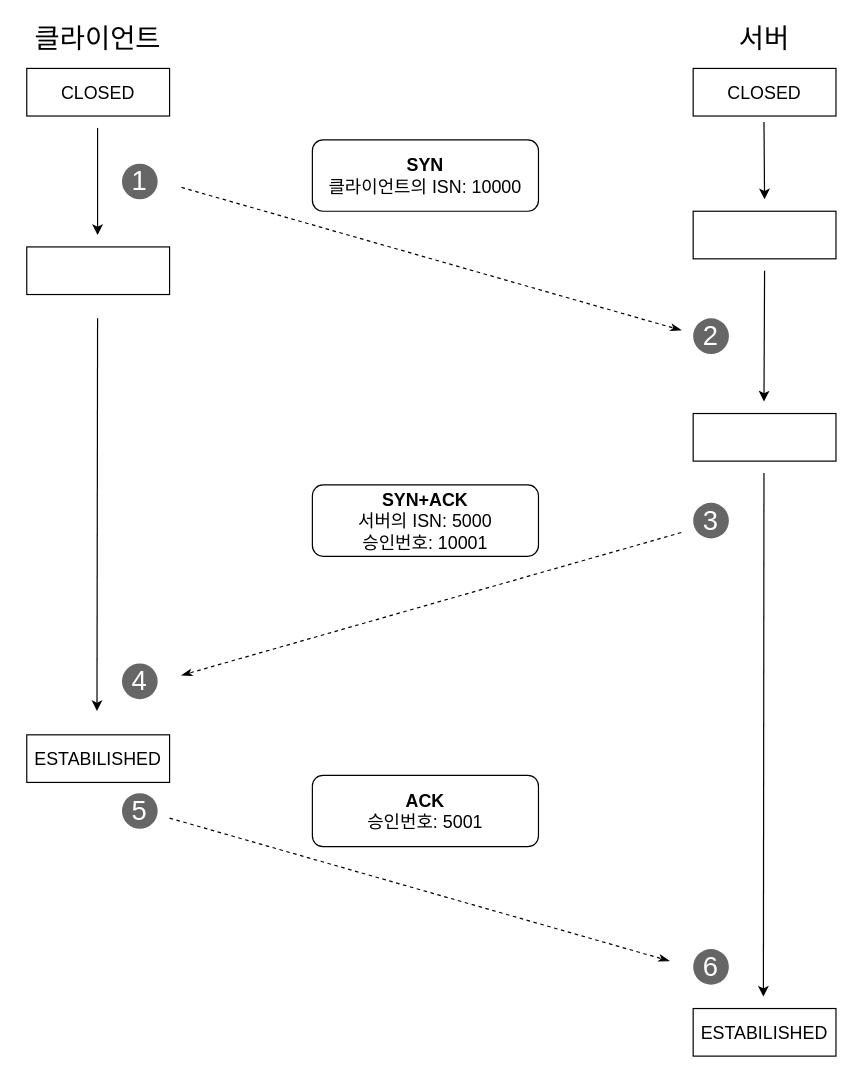
The diagram is 862 pixels wide and 1077 high, and some of its shapes have lost their labels. Here are the shapes that lost their labels. From the top down, the centre of each, then its label:
At point 764,234: "LISTEN".
At point 98,270: "SYN-SENT".
At point 764,436: "SYN-RECEIVED".
